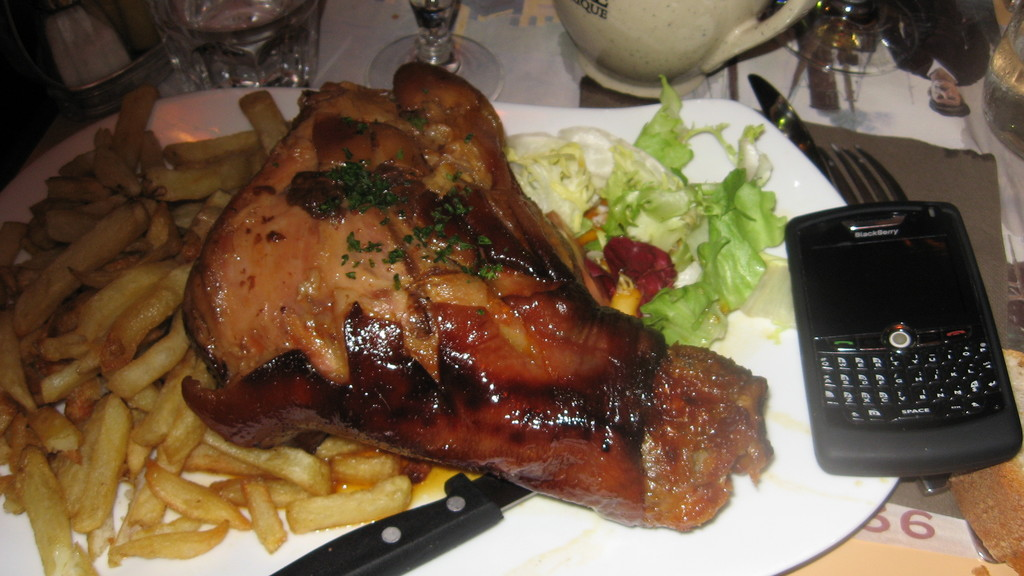French fries: (0, 79, 433, 575)
